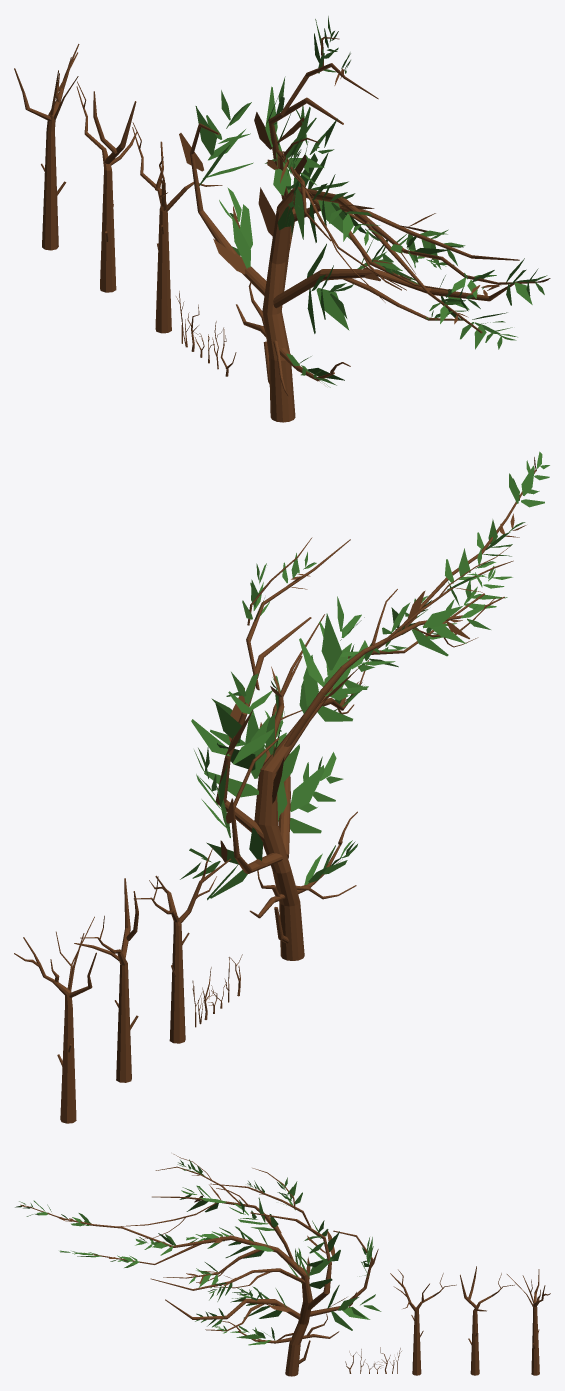
The model's file is tree.fbx.
3 views of the same model, one above another, from view 1: azimuth 30°, elevation 25°; view 2: azimuth 150°, elevation 25°; view 3: azimuth 270°, elevation 25° (orthographic). The views are drawn at different scales.
Parts seen in each view (by area): view 1: special_tree, tree2, tree3, tree1; view 2: special_tree, tree3, tree2, tree1; view 3: special_tree, tree1, tree2, tree3.
Part boxes in pixels (box(x1,y1,x2,y2)): special_tree: box(179, 16, 550, 422); tree2: box(76, 81, 136, 292); tree3: box(14, 44, 79, 250); tree1: box(132, 122, 222, 333); special_tree: box(180, 451, 549, 960); tree3: box(14, 916, 96, 1123); tree2: box(74, 878, 138, 1082); tree1: box(133, 847, 231, 1043); special_tree: box(15, 1154, 381, 1376); tree1: box(390, 1269, 456, 1375); tree2: box(460, 1266, 514, 1375); tree3: box(507, 1269, 550, 1375).
Bounding box in the file's own units: 1652 × 2817 × 6507.
